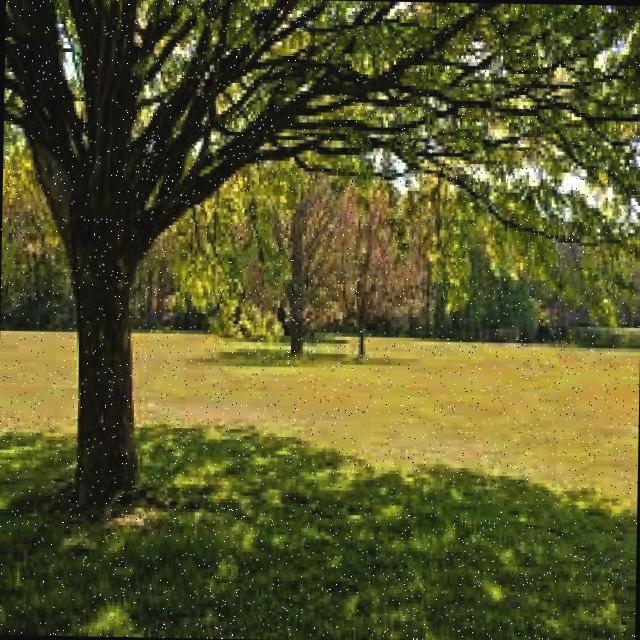lawn: (0, 331, 638, 640)
